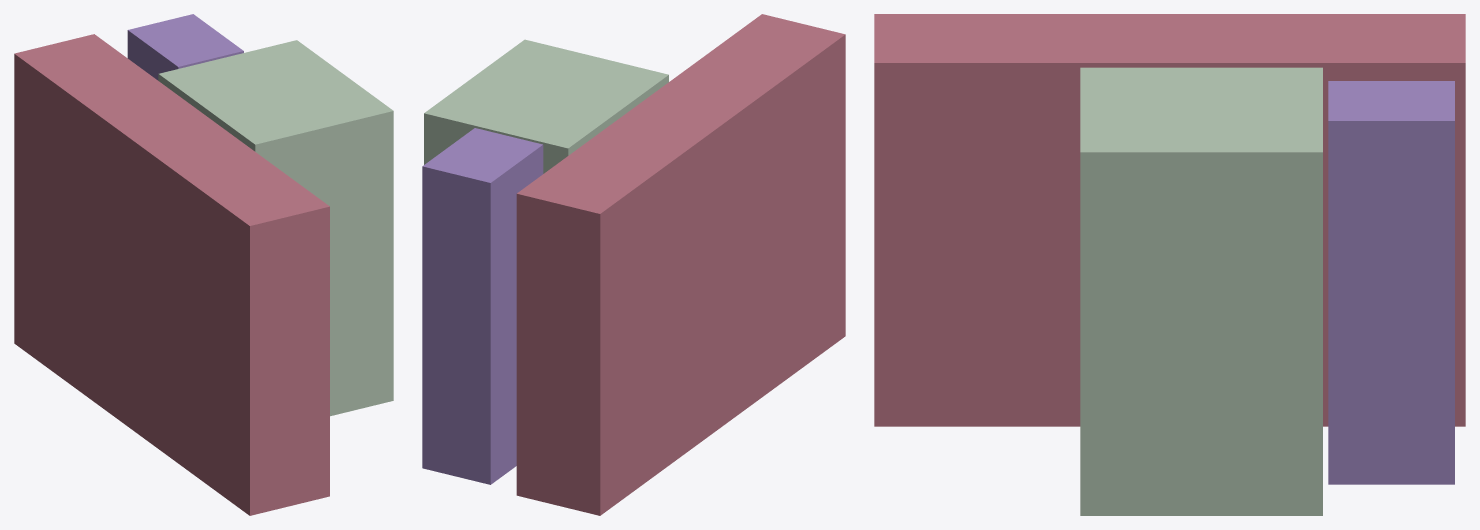
The picture shows the model from 3 angles, left to right: view 1: azimuth 30°, elevation 25°; view 2: azimuth 150°, elevation 25°; view 3: azimuth 270°, elevation 25°; orthographic projection. The views are drawn at different scales.
Visible parts, largest first — view 1: world; view 2: world; view 3: world.
Boxes of the visible parts, x1,y1,x2,y2 form: world: (14, 14, 393, 515); world: (422, 14, 845, 515); world: (874, 14, 1465, 515).
Bounding box in the file's own units: 3.1 × 3.8 × 5.6.
